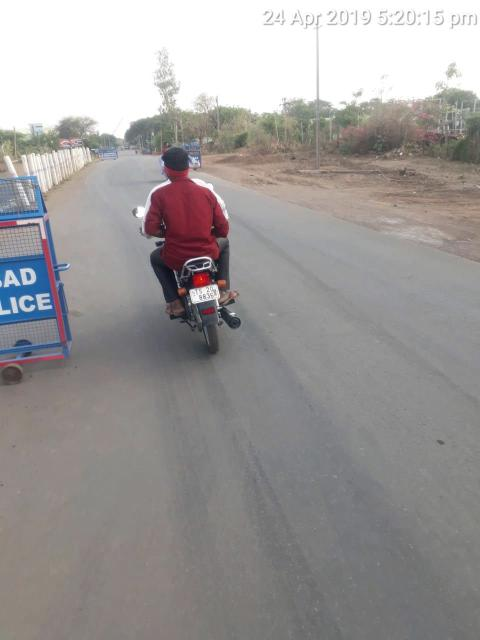motor: (173, 258, 242, 357)
non-helm: (163, 150, 190, 181)
